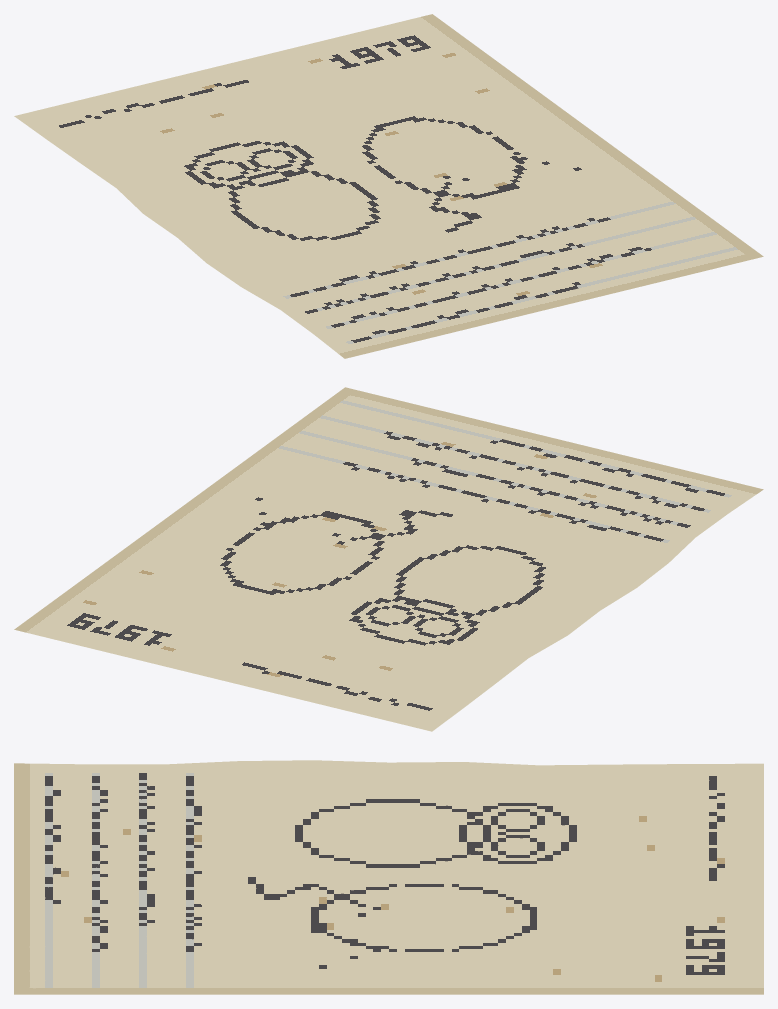
File: m_page_boobook.glb
3 renders of one model, top to bottom at view 1: azimuth 30°, elevation 25°; view 2: azimuth 150°, elevation 25°; view 3: azimuth 270°, elevation 25°, orthographic. The views are drawn at different scales.
Visible parts, largest first — view 1: Page_boobook; view 2: Page_boobook; view 3: Page_boobook.
Part boxes in pixels (left/top/right/bottom): Page_boobook: left=14, top=14, right=763, bottom=358; Page_boobook: left=14, top=387, right=763, bottom=731; Page_boobook: left=14, top=760, right=763, bottom=994.
Bounding box in the file's own units: 0.148 × 0 × 0.2.
Materials: 1 (1 with a texture image).
